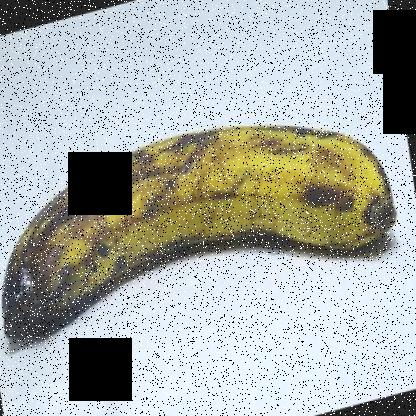overripe: (1, 99, 401, 374)
rotten: (1, 219, 74, 364)
